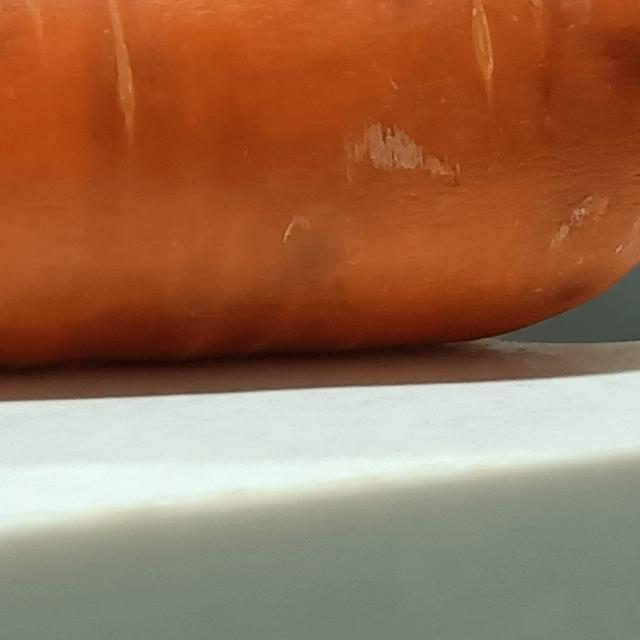carrot: (1, 1, 640, 385)
